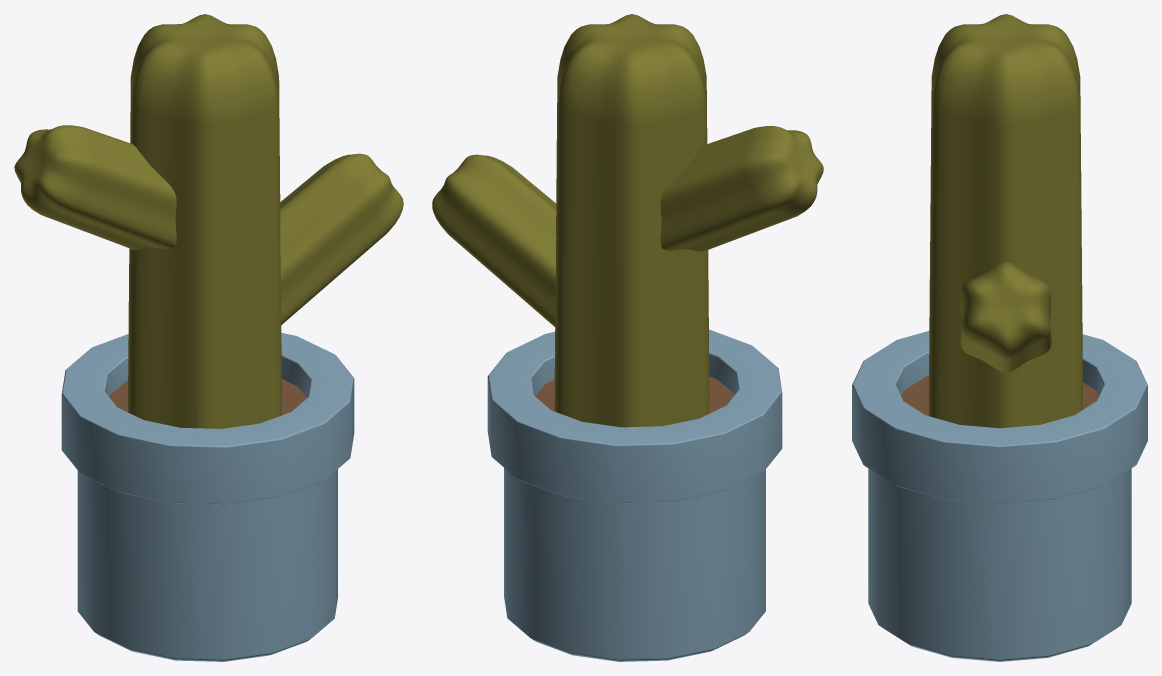
File: Cactus_1.glb
3 renders of one model, left to right at view 1: azimuth 30°, elevation 25°; view 2: azimuth 150°, elevation 25°; view 3: azimuth 270°, elevation 25°, orthographic.
Visible parts, largest first — view 1: Cactus_5; view 2: Cactus_5; view 3: Cactus_5.
Part boxes in pixels (x1,y1,x2,y2): Cactus_5: (14, 14, 403, 661); Cactus_5: (432, 14, 823, 661); Cactus_5: (852, 14, 1147, 661).
Bounding box in the file's own units: 0.6817 × 0.9982 × 0.4659.
Materials: 1 (1 with a texture image).
